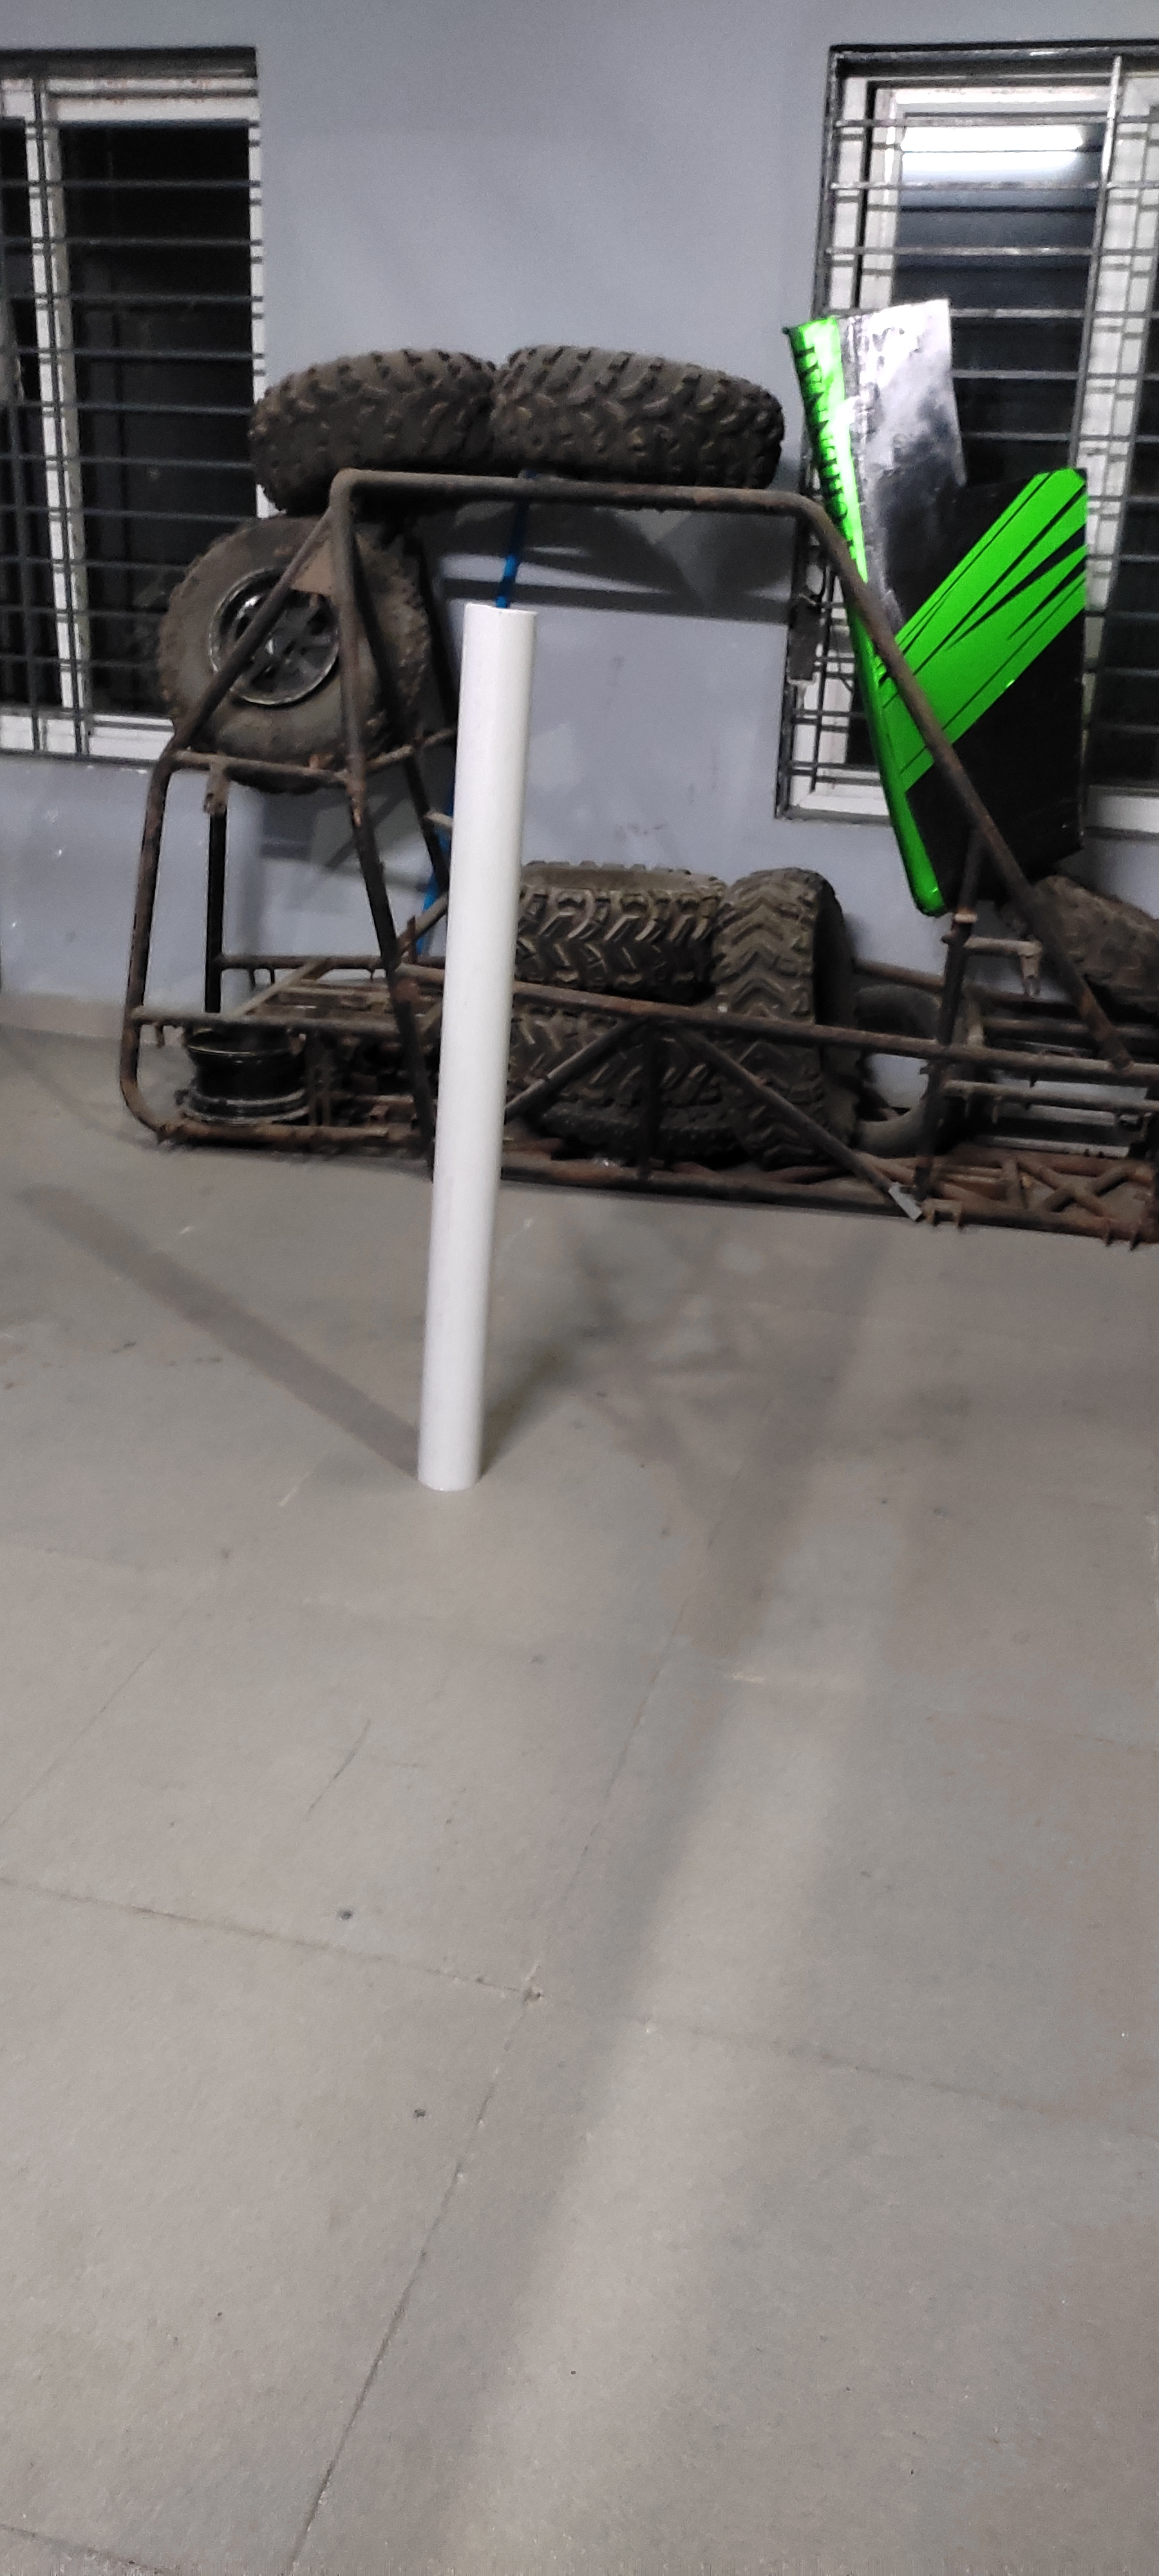pole: (396, 572, 558, 1506)
